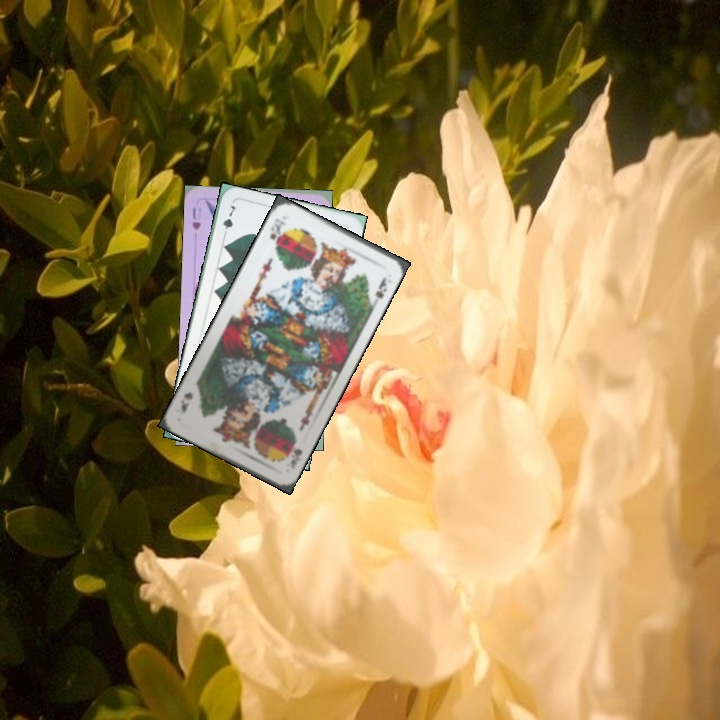G7: (219, 201, 238, 240)
HU: (188, 203, 204, 232)
SK: (282, 434, 305, 471), (265, 214, 289, 246)
